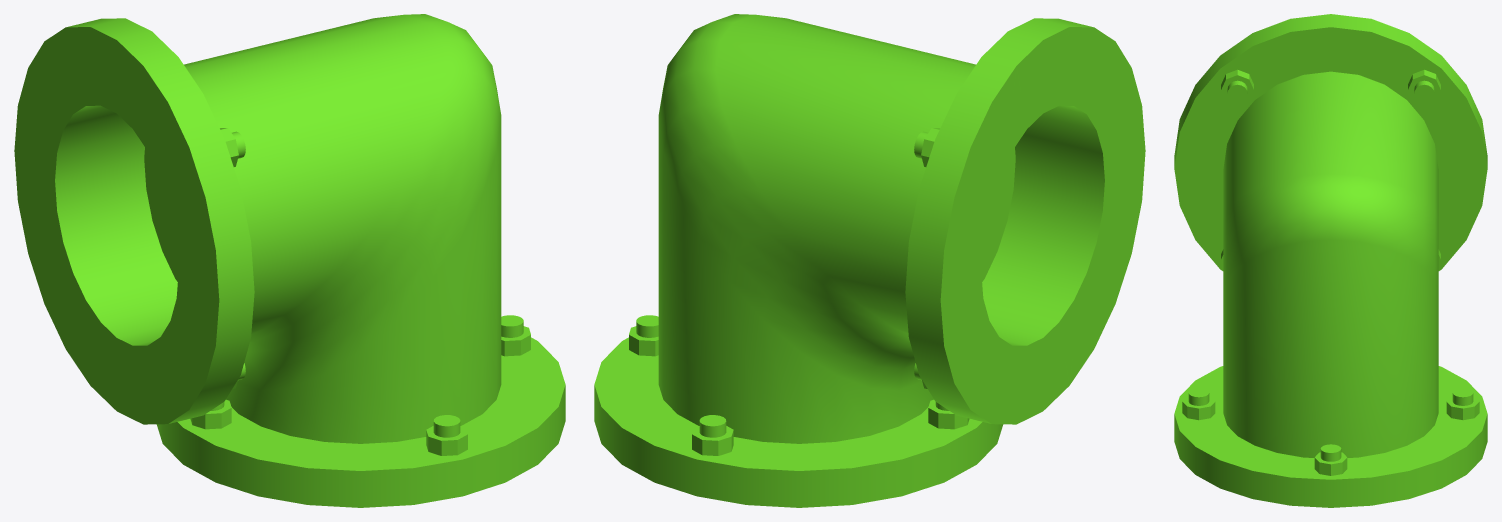
Rendered from L-Pipe.fbx.
3 renders of one model, left to right at view 1: azimuth 30°, elevation 25°; view 2: azimuth 150°, elevation 25°; view 3: azimuth 270°, elevation 25°, orthographic. The views are drawn at different scales.
Parts seen in each view (by area): view 1: L-Pipe; view 2: L-Pipe; view 3: L-Pipe.
Boxes of the visible parts, x1,y1,x2,y2 form: L-Pipe: (14, 14, 565, 507); L-Pipe: (594, 14, 1145, 507); L-Pipe: (1174, 14, 1487, 507).
Bounding box in the file's own units: 130 × 130 × 109.
